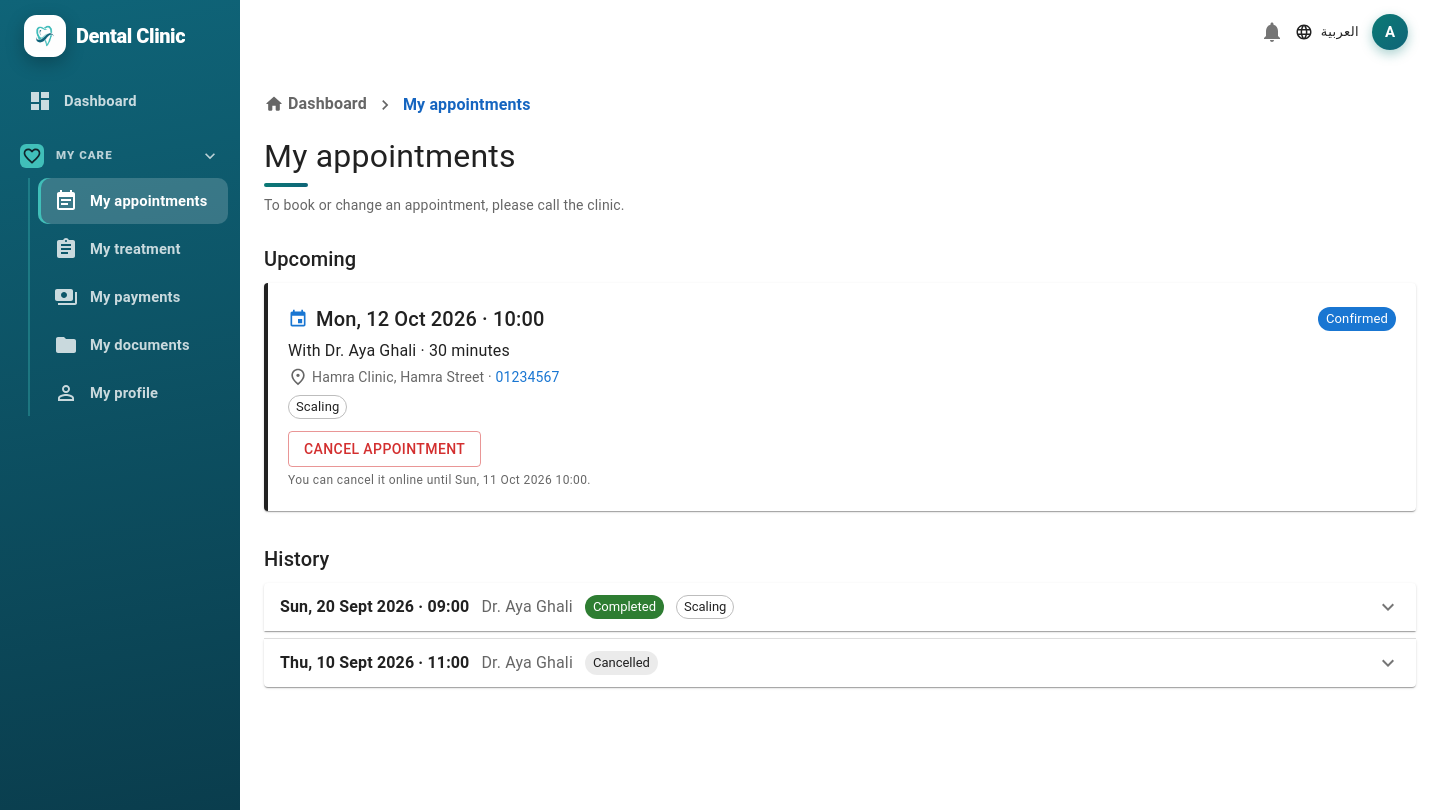
my appointments › lists what is coming and the history, with each visit’s summary and prescription and a printable summary
The width and height of the screenshot is (1440, 810).
Expected: the heading "My appointments" is shown, top-left (264, 137), bottom-right (516, 175)
Expected: the text "With Dr. Aya Ghali · 30 minutes" is shown, top-left (288, 340), bottom-right (510, 360)
Click the text "Completed".
click(624, 607)  # box top-left (593, 600), bottom-right (656, 614)
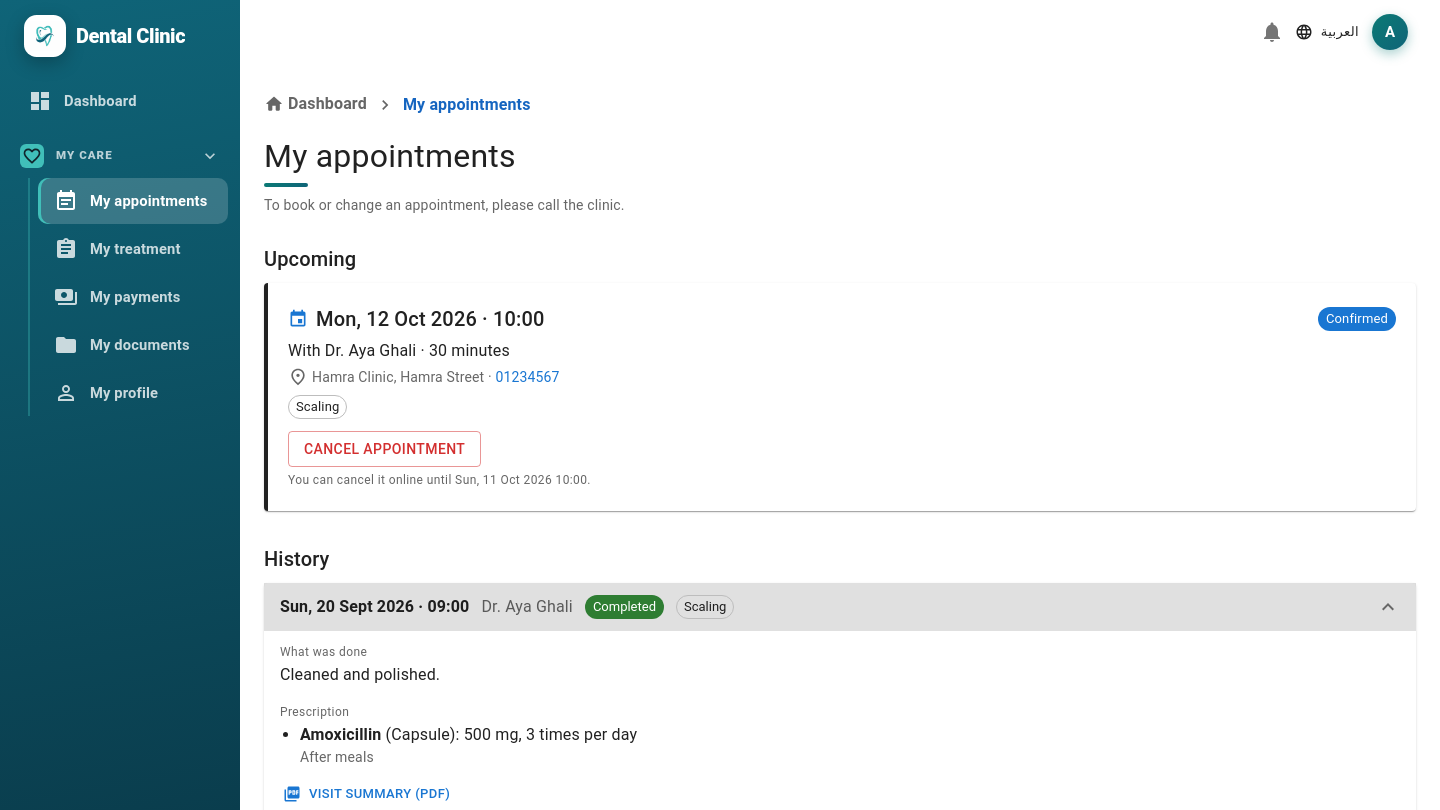
Expected: the text "Cleaned and polished." is shown, top-left (280, 665), bottom-right (440, 684)
Expected: the text "Amoxicillin" is shown, top-left (300, 725), bottom-right (382, 744)
Expected: the list item "Amoxicillin (Capsule): 500 mg, 3 times per day After meals" is shown, top-left (300, 725), bottom-right (637, 765)
